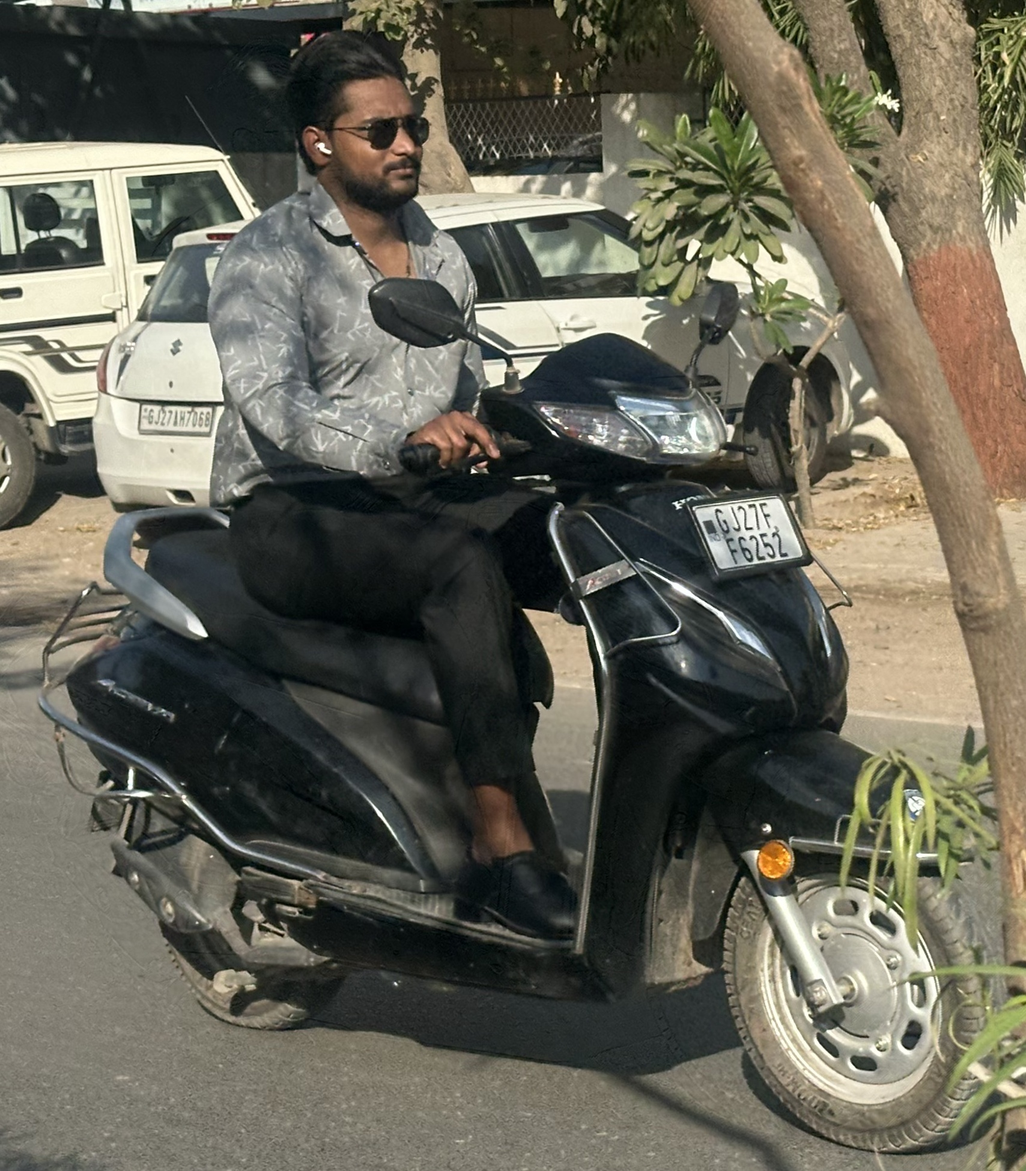BikeWithRider: (29, 20, 1001, 1161)
NoHelmet: (268, 22, 448, 219)
